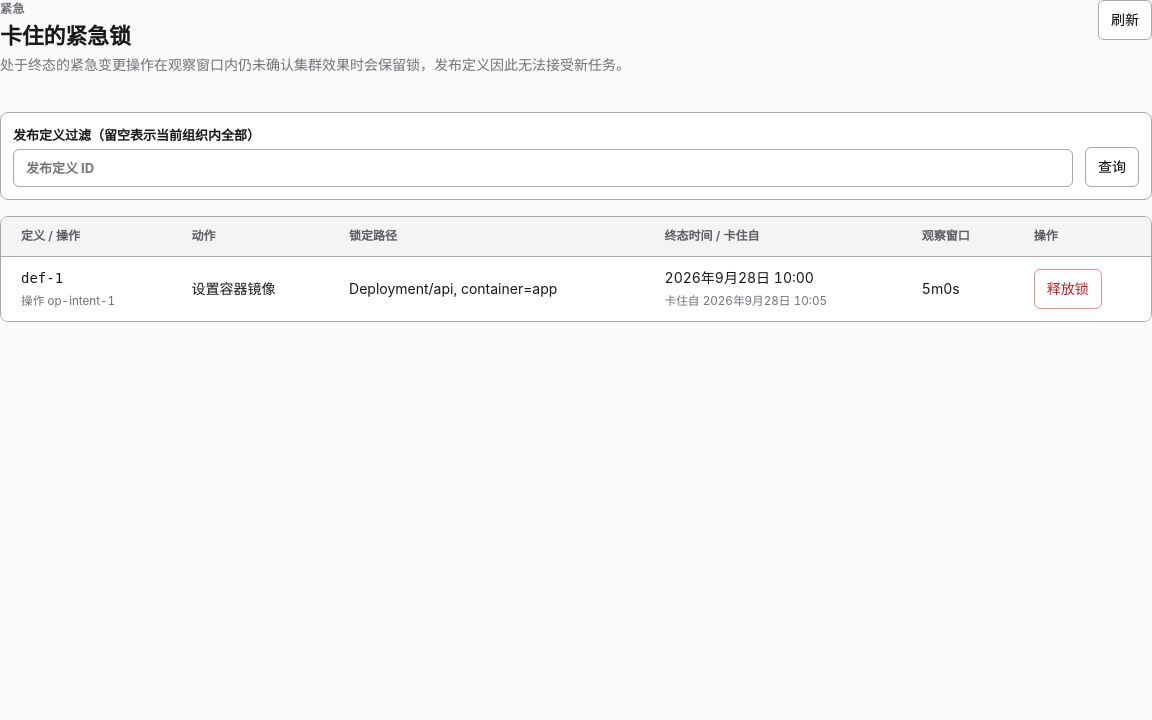
Test case: release dialog semantics (TASK-296) › keeps the validation message inside the dialog
The width and height of the screenshot is (1152, 720).
Click the button "释放锁".
click(1068, 289)  # box [1034,269,1102,309]
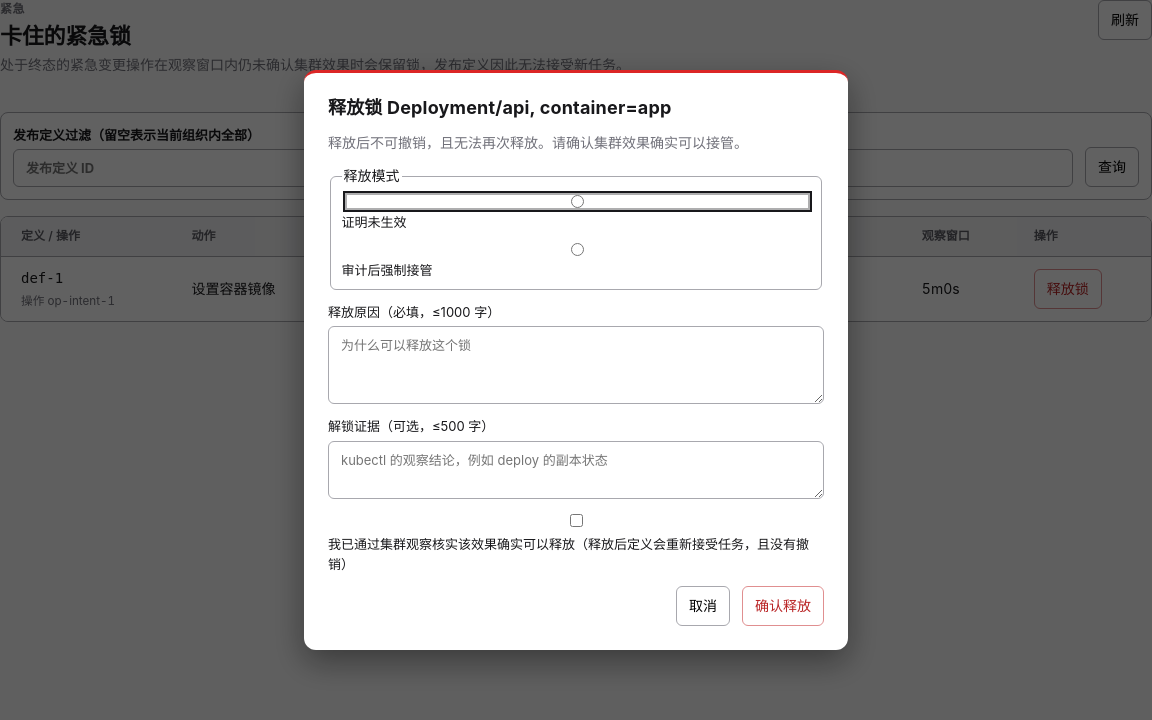
Submit the form with class "stuck__form", box [328,165,824,626]
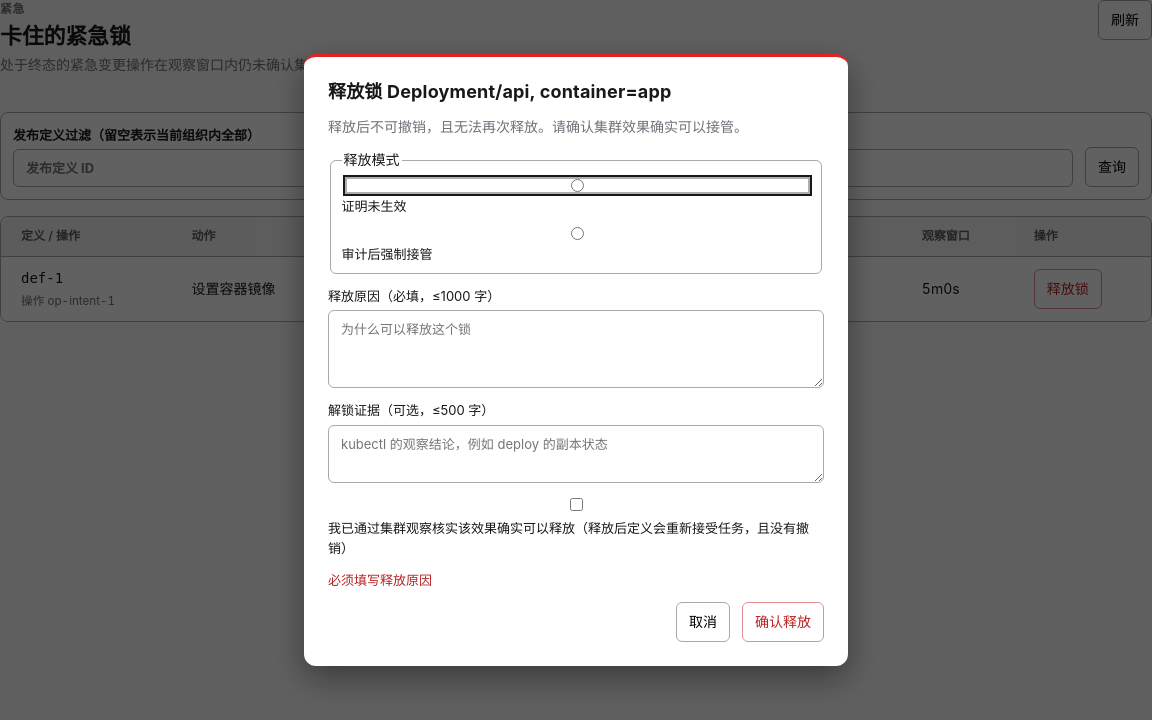
Expected: the message with test id "stuck-validation" reads "必须填写释放原因", [328,572,432,588]
